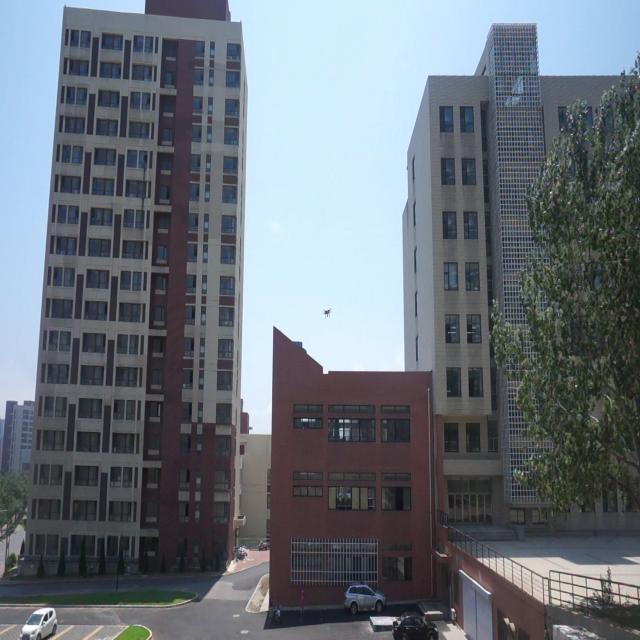UAV: (320, 307, 334, 319)
